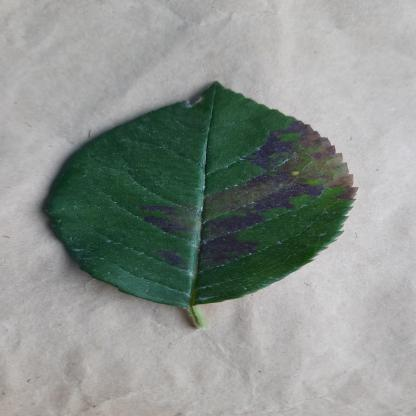downy-mildew: (38, 84, 362, 306)
